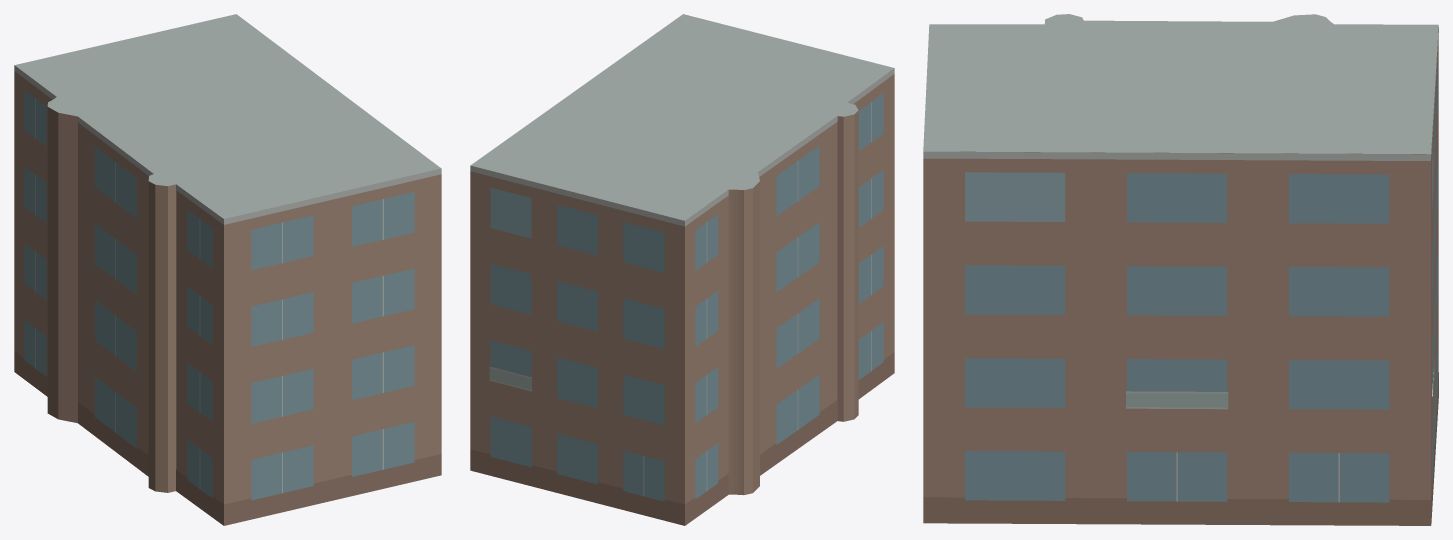
Rendered from survey-upis-33016319.glb.
3 views of the same model, side by side, from view 1: azimuth 30°, elevation 25°; view 2: azimuth 150°, elevation 25°; view 3: azimuth 270°, elevation 25° (orthographic). The views are drawn at different scales.
Visible parts, largest first — view 1: survey-upis-33016319.tmp; view 2: survey-upis-33016319.tmp; view 3: survey-upis-33016319.tmp.
Boxes of the visible parts, x1,y1,x2,y2 form: survey-upis-33016319.tmp: (14, 14, 441, 525); survey-upis-33016319.tmp: (470, 14, 894, 525); survey-upis-33016319.tmp: (923, 14, 1438, 525).
Size of the model in its own units: 10.52 by 13 by 16.35.
